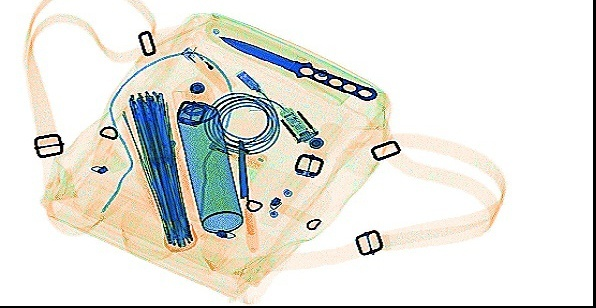knife: (216, 33, 378, 103), (234, 136, 262, 252)
lighter: (178, 40, 239, 95), (206, 135, 269, 169)
pressure: (168, 76, 245, 235)
